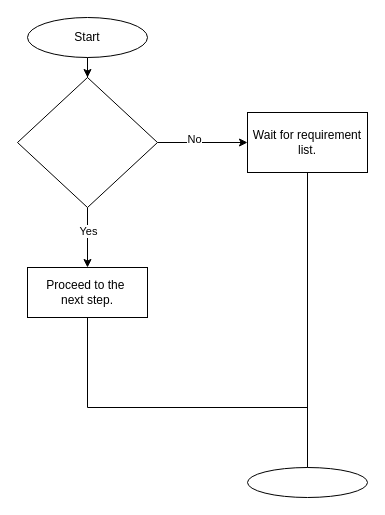
Some shapes in this 385 by 515 pixel diagram are drawn without their labels. The shapes that lost their labels are listed below. From the top down, each one's centre as x and y in pixels, then its label:
point (87, 142): Is the requirements list available?
point (307, 482): End
